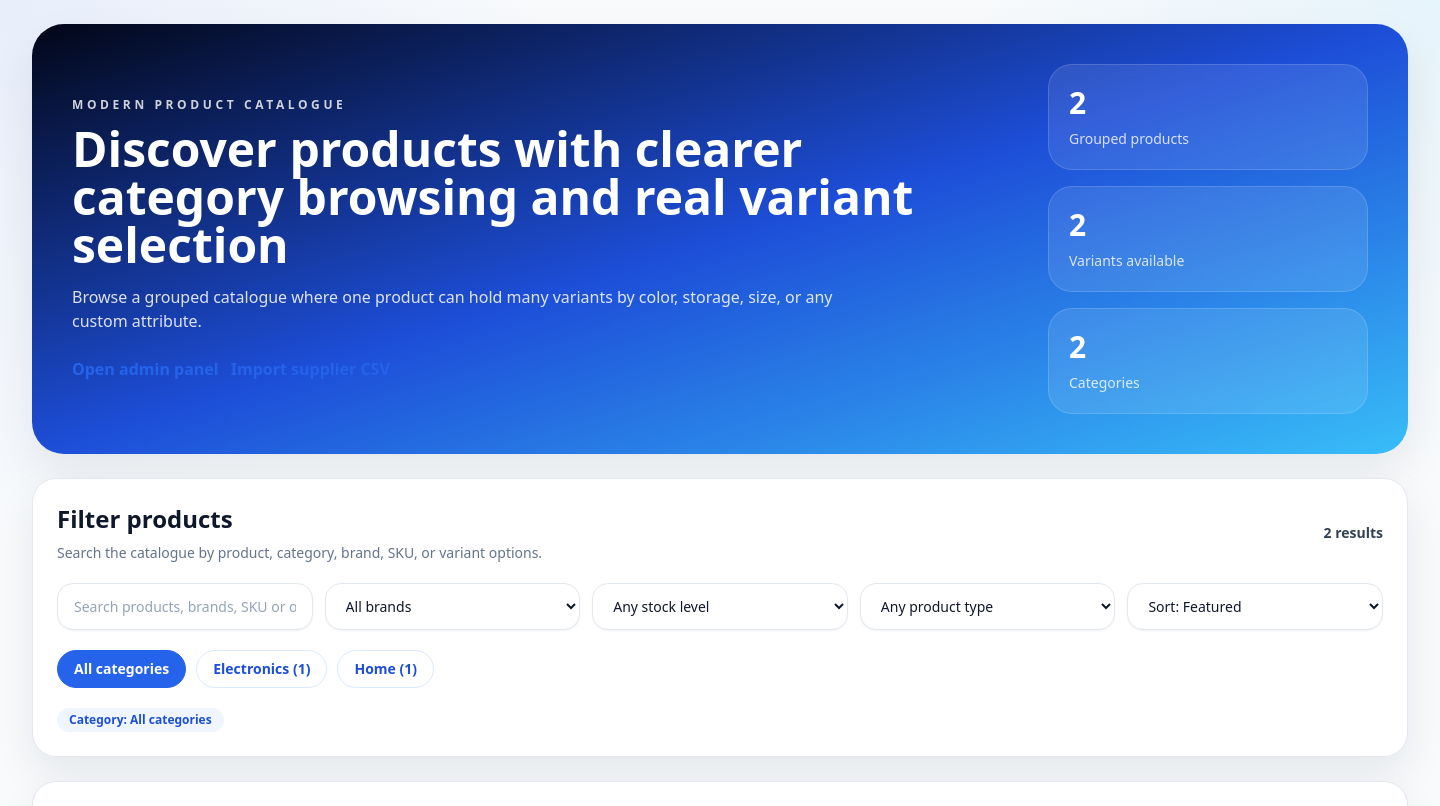
Test: page flows › catalogue page filters by category, brand scope, description search, and stock state
This screenshot has width=1440, height=806.
Click the button "Home (1)": [386, 669] box [337,650,434,688]
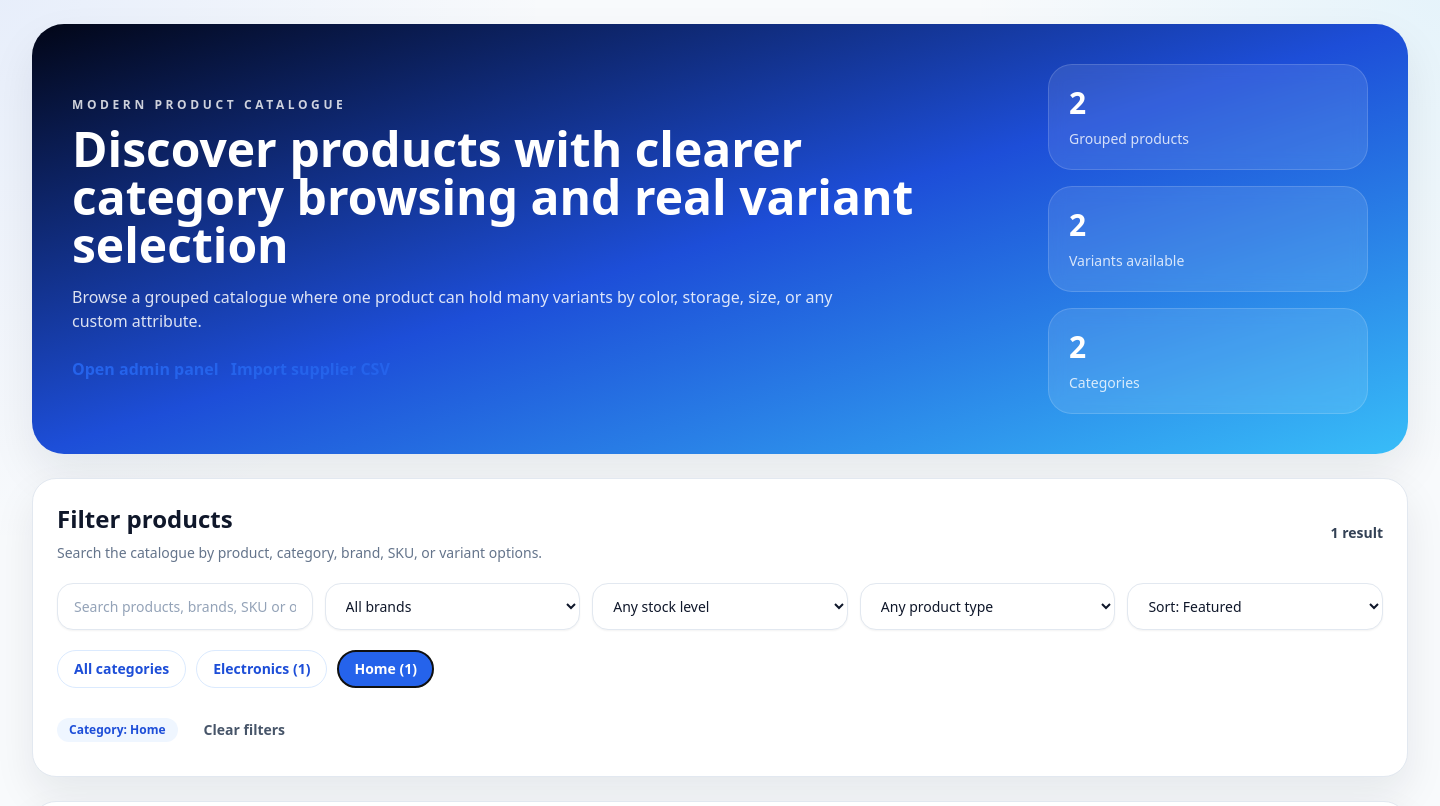
Expected: the text "no products matched your home page filters." is not shown
In the field with placeholder "Search products, brands, SKU or options": [185, 606] box [57,583,313,630], type "bedroom"
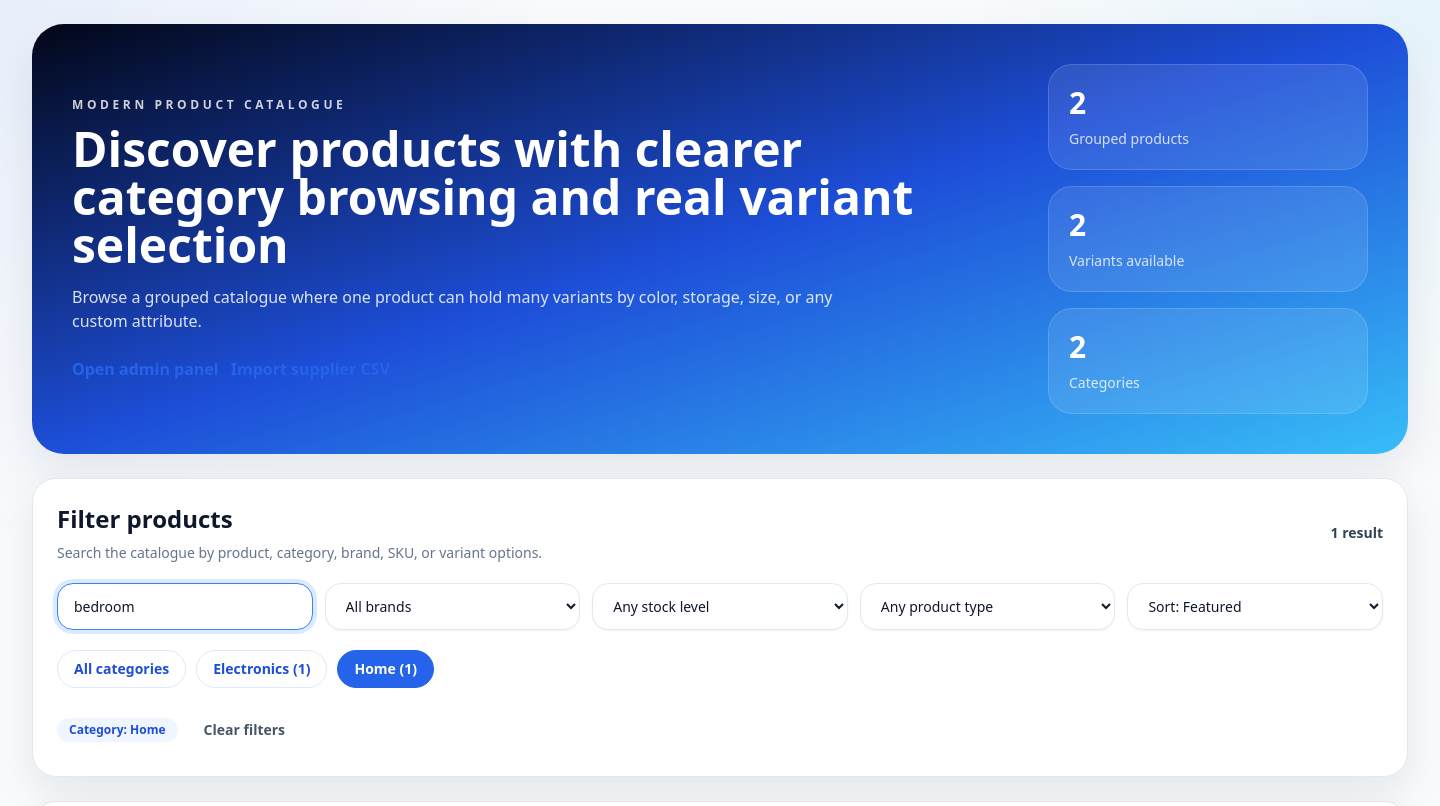
Select "Out of stock" in the 2nd dropdown showing "any stock level": [720, 606] box [592,583,848,630]
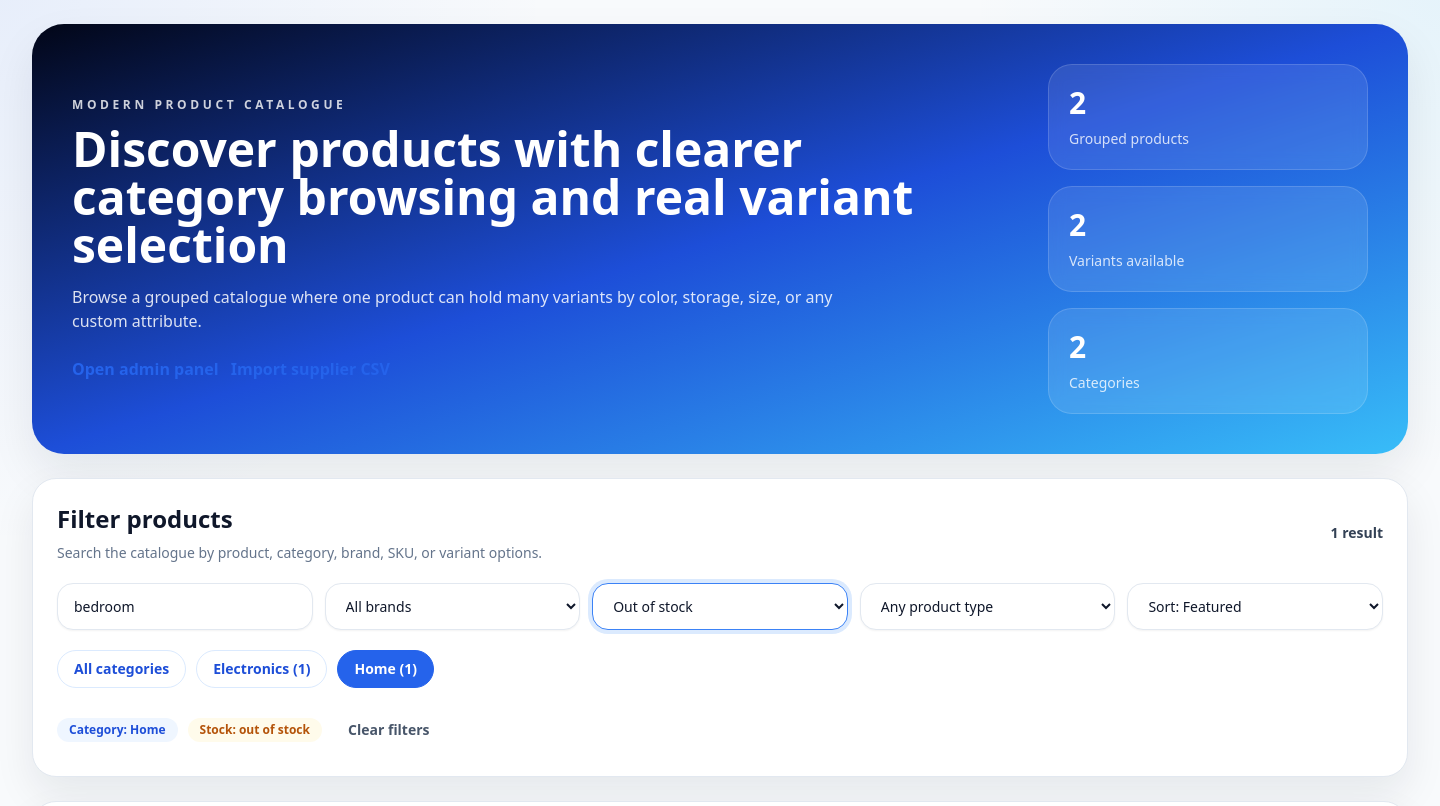
Select "In stock" in the 2nd dropdown: [720, 606] box [592,583,848,630]
(page scrolled)
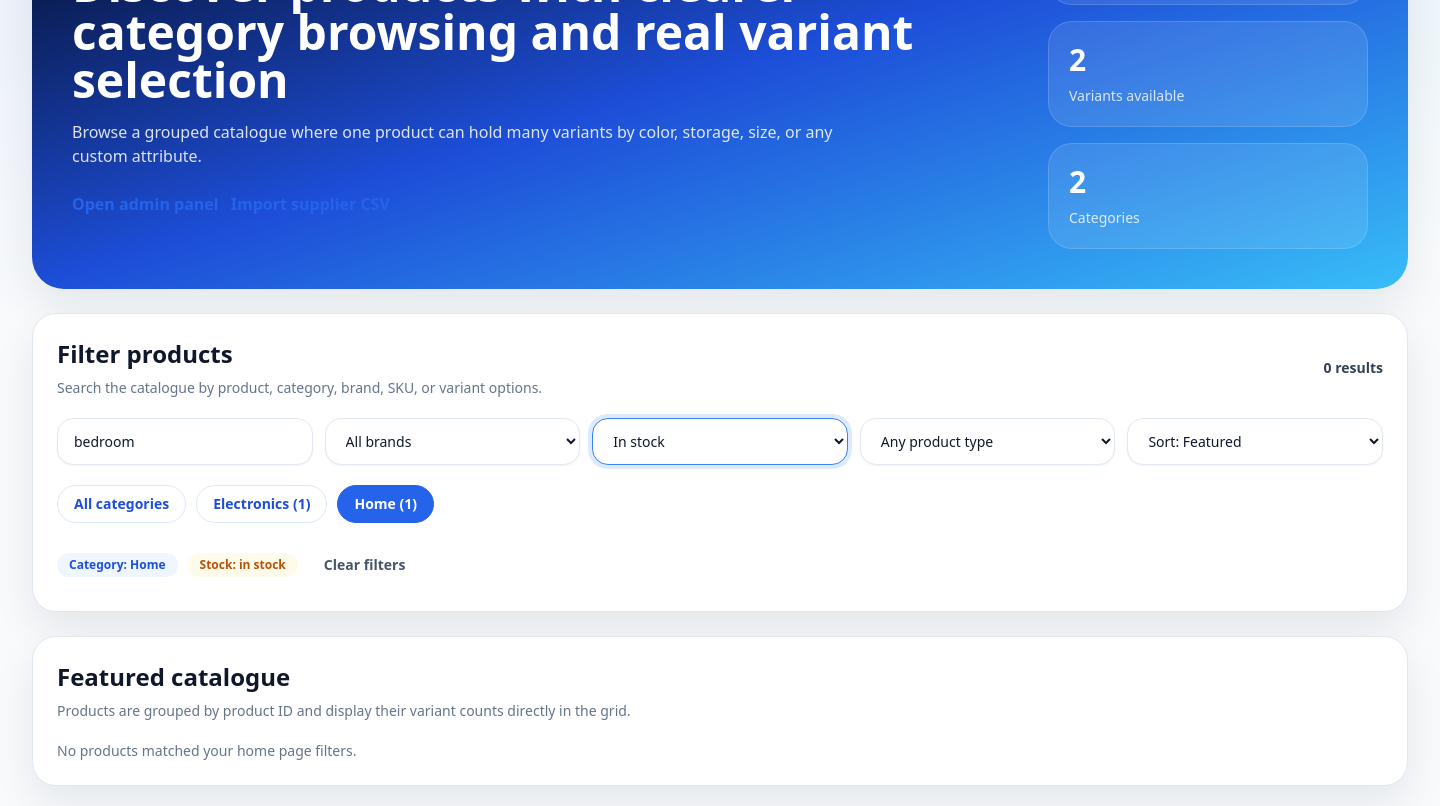
Expected: the text "No products matched your home page filters." is shown, [57,741,356,760]
